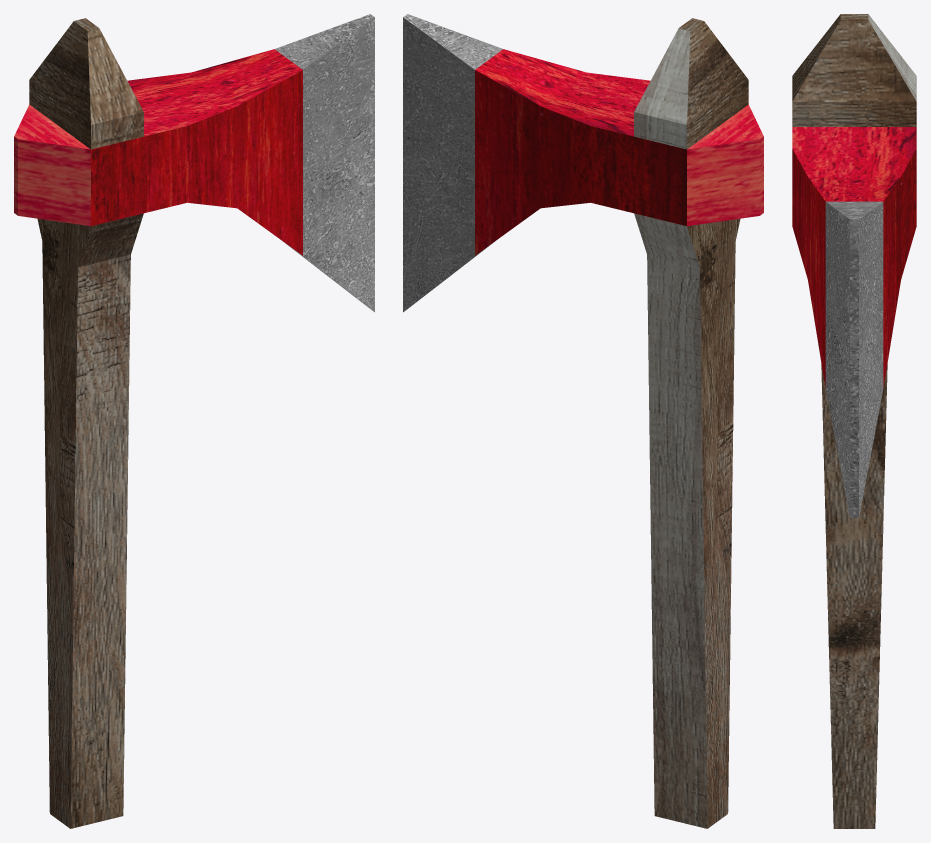
Rendered from axe100.fbx.
3 views of the same model, side by side, from view 1: azimuth 30°, elevation 25°; view 2: azimuth 150°, elevation 25°; view 3: azimuth 270°, elevation 25° (orthographic).
Visible parts, largest first — view 1: Cube; view 2: Cube; view 3: Cube.
Boxes of the visible parts, x1,y1,x2,y2 form: Cube: (14, 14, 374, 828); Cube: (403, 14, 763, 828); Cube: (792, 14, 916, 828).
Size of the model in its own units: 53.33 by 113 by 15.97.
Materials: 3 (3 with a texture image).
